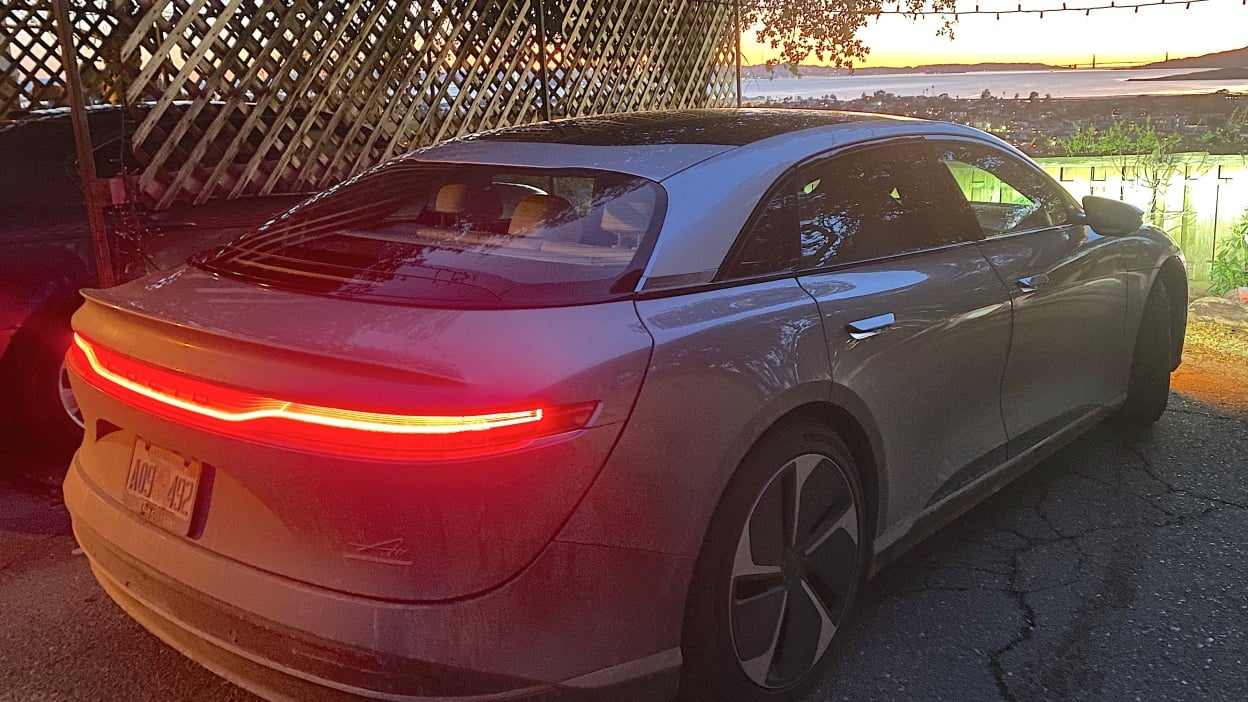car: (51, 102, 1196, 702)
